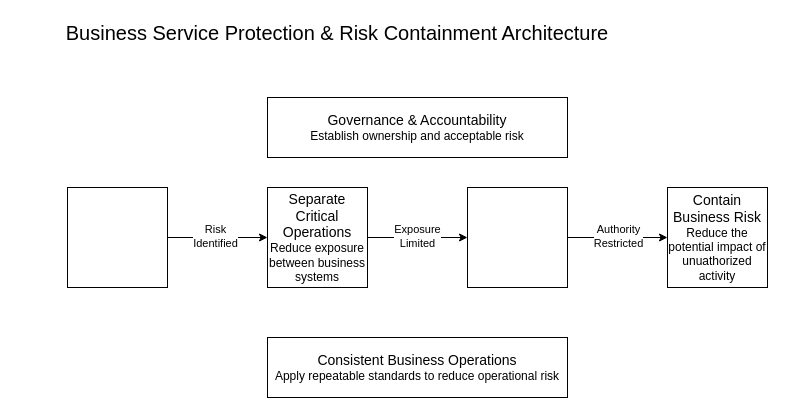
Some shapes in this 785 by 415 pixel diagram are drawn without their labels. The shapes that lost their labels are listed below. From the top down, each one's box as (x1, y1, x2, y2) in pixels, then its label:
(66, 186, 168, 288): Protected Risk Services Limit Unecessary exposure and risk
(466, 186, 568, 288): Limit Service Authority Restrict what each service can access or change
